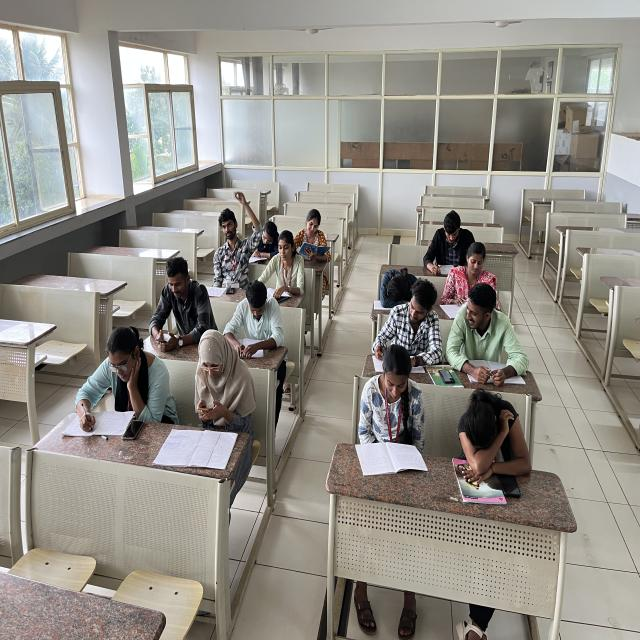Hand Rising: (213, 192, 265, 284)
Reading: (350, 347, 428, 468), (225, 280, 287, 354), (418, 207, 477, 276), (294, 208, 337, 262)
Sleeping: (452, 389, 536, 482), (369, 261, 421, 306)
Using Phone: (141, 254, 218, 354), (186, 324, 262, 425)
Writing: (70, 321, 174, 431)
